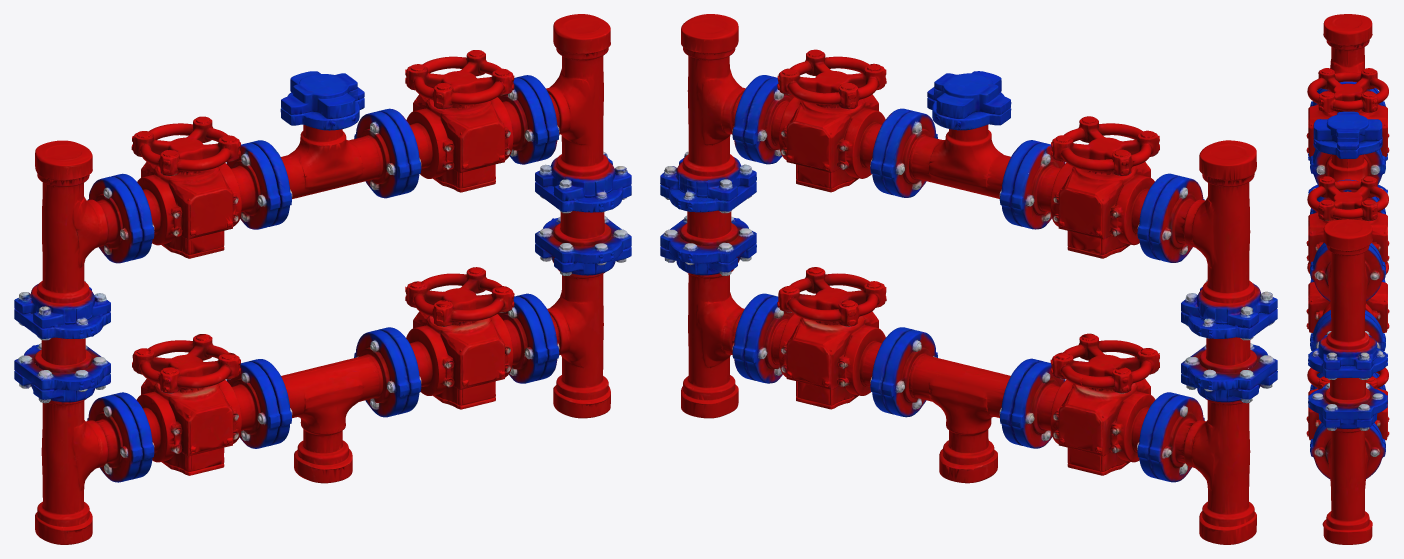
Rendered from empaqueGrava.glb.
The picture shows the model from 3 angles, left to right: view 1: azimuth 30°, elevation 25°; view 2: azimuth 150°, elevation 25°; view 3: azimuth 270°, elevation 25°; orthographic projection. The views are drawn at different scales.
Parts seen in each view (by area): view 1: tripo_node_a85cdff0-f06b-47e8-b490-1bad02ce82c6; view 2: tripo_node_a85cdff0-f06b-47e8-b490-1bad02ce82c6; view 3: tripo_node_a85cdff0-f06b-47e8-b490-1bad02ce82c6.
Boxes of the visible parts, x1,y1,x2,y2 form: tripo_node_a85cdff0-f06b-47e8-b490-1bad02ce82c6: (14,14,631,544); tripo_node_a85cdff0-f06b-47e8-b490-1bad02ce82c6: (660,14,1277,544); tripo_node_a85cdff0-f06b-47e8-b490-1bad02ce82c6: (1306,14,1389,544).
Bounding box in the file's own units: 0.9792 × 0.6125 × 0.147.
1 material, 1 textured.
